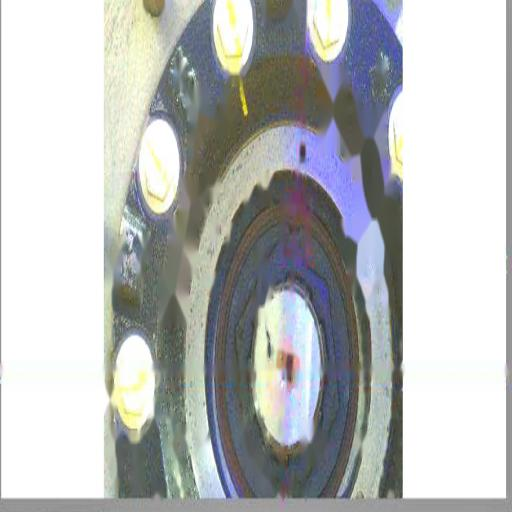center: (285, 350, 294, 375)
notch: (283, 220, 303, 242)
